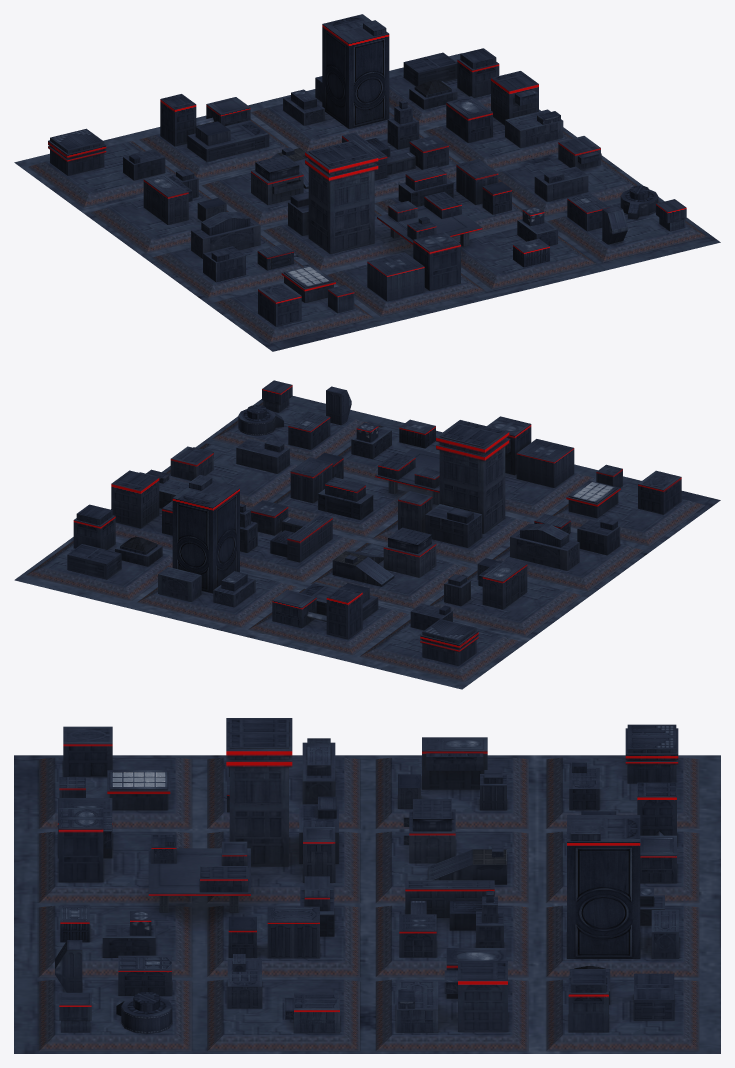
File: CityBlock5_Model.FBX
The picture shows the model from 3 angles, top to bottom: view 1: azimuth 30°, elevation 25°; view 2: azimuth 150°, elevation 25°; view 3: azimuth 270°, elevation 25°; orthographic projection. The views are drawn at different scales.
Parts seen in each view (by area): view 1: polySurface06; view 2: polySurface06; view 3: polySurface06.
Part boxes in pixels (<box>): polySurface06: <box>14,14,720,351</box>; polySurface06: <box>14,380,720,689</box>; polySurface06: <box>14,718,720,1053</box>.
Bounding box in the file's own units: 43.8 × 9.08 × 43.8.
Materials: 1 (1 with a texture image).
